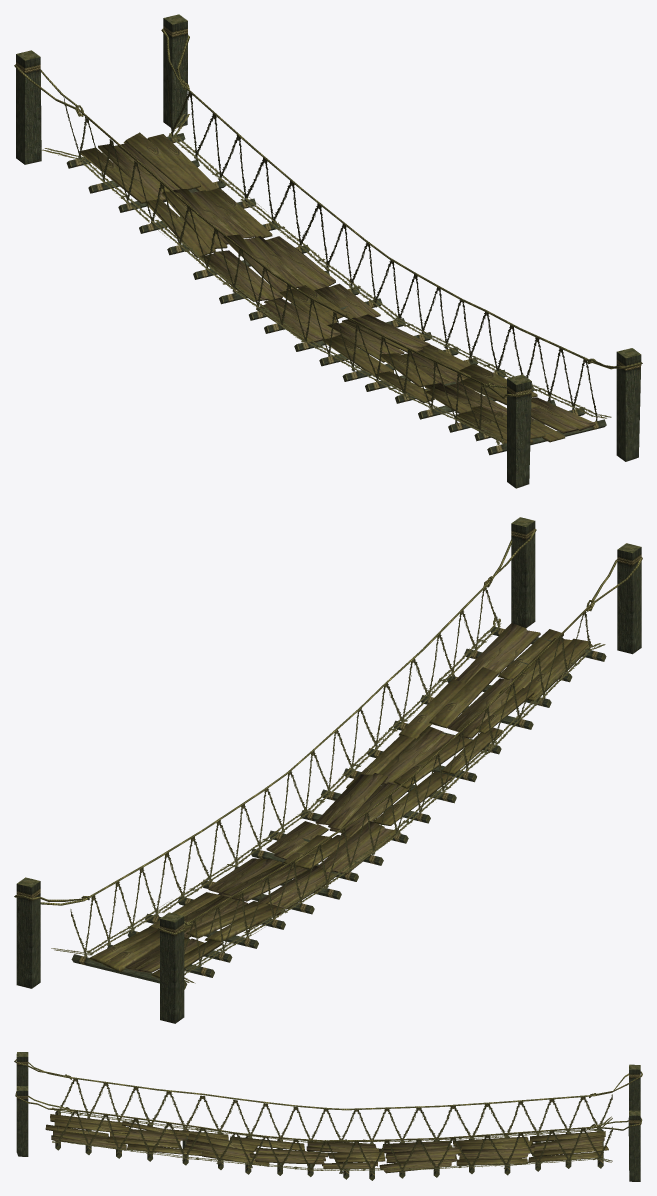
File: environment_Building_jianmushenshu_001_d.FBX
The picture shows the model from 3 angles, top to bottom: view 1: azimuth 30°, elevation 25°; view 2: azimuth 150°, elevation 25°; view 3: azimuth 270°, elevation 25°; orthographic projection. The views are drawn at different scales.
Parts seen in each view (by area): view 1: environment_Building_jianmushenshu_001_d; view 2: environment_Building_jianmushenshu_001_d; view 3: environment_Building_jianmushenshu_001_d.
Boxes of the visible parts, x1,y1,x2,y2 form: environment_Building_jianmushenshu_001_d: (14, 14, 642, 488); environment_Building_jianmushenshu_001_d: (14, 517, 642, 1023); environment_Building_jianmushenshu_001_d: (14, 1052, 642, 1181).
Size of the model in its own units: 570 by 2891 by 464.
